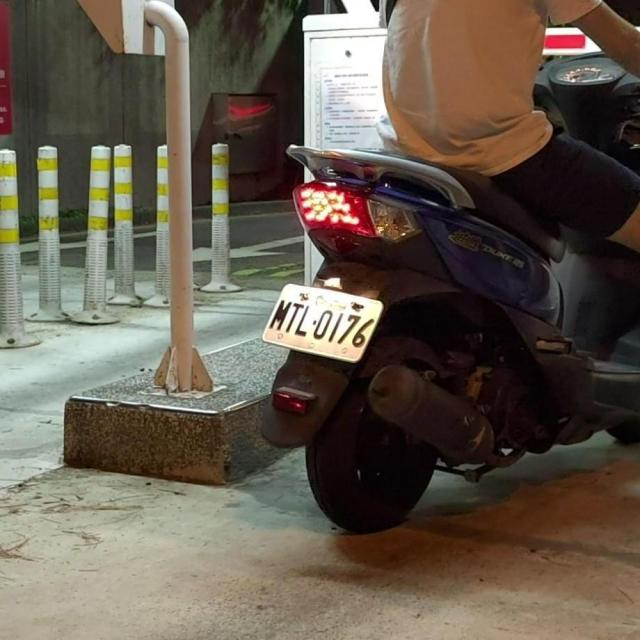W: (259, 278, 384, 363)
